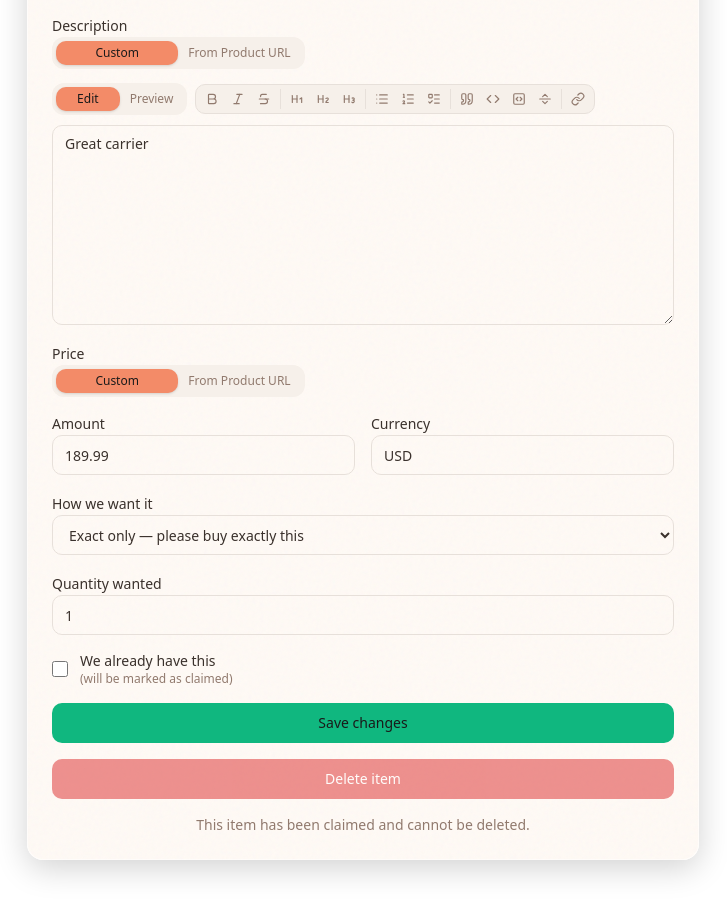
it: EditItemPage › shows inline error when quantity is set below total claimed
(page scrolled)
Replace the text in the number field labelled "Quantity wanted" with "2" at (363, 615), box [52,595,674,635]
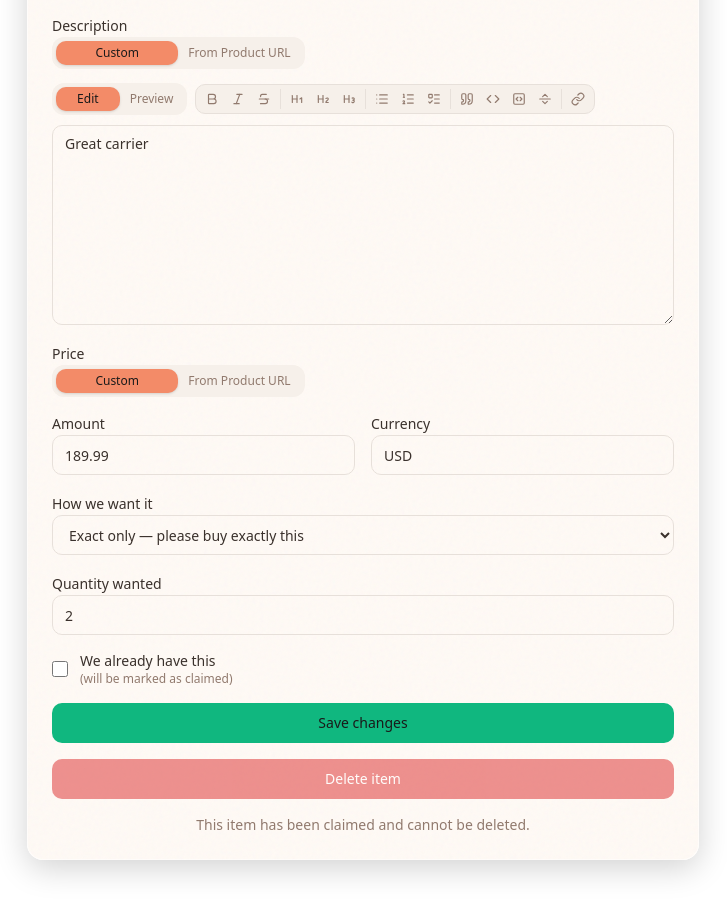
Click the button "Save changes" at (363, 723), box [52,703,674,743]
(page scrolled)
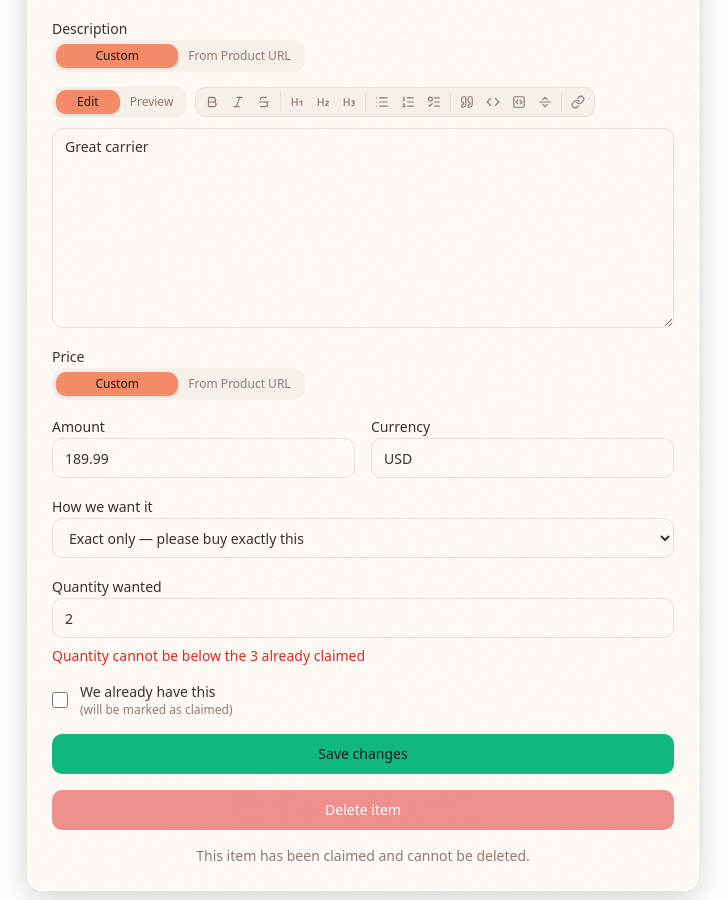
Check: the text "Quantity cannot be below the 3 already claimed" is shown, box [52,646,365,665]
